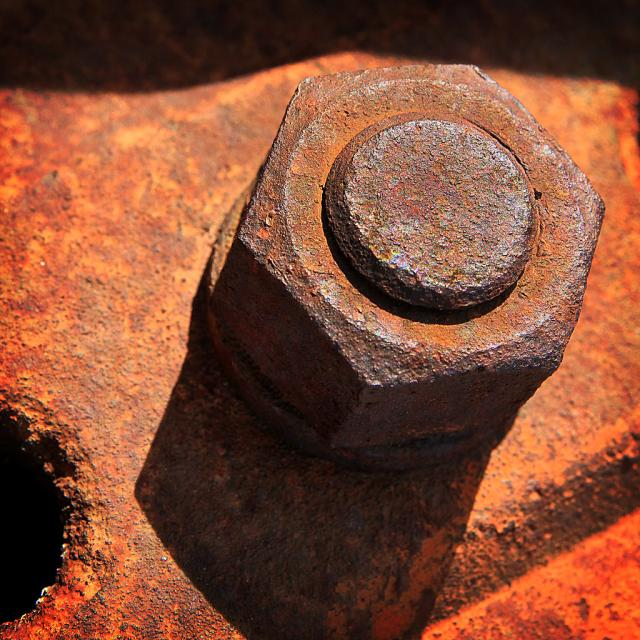Rusty bolt: (224, 59, 605, 453)
